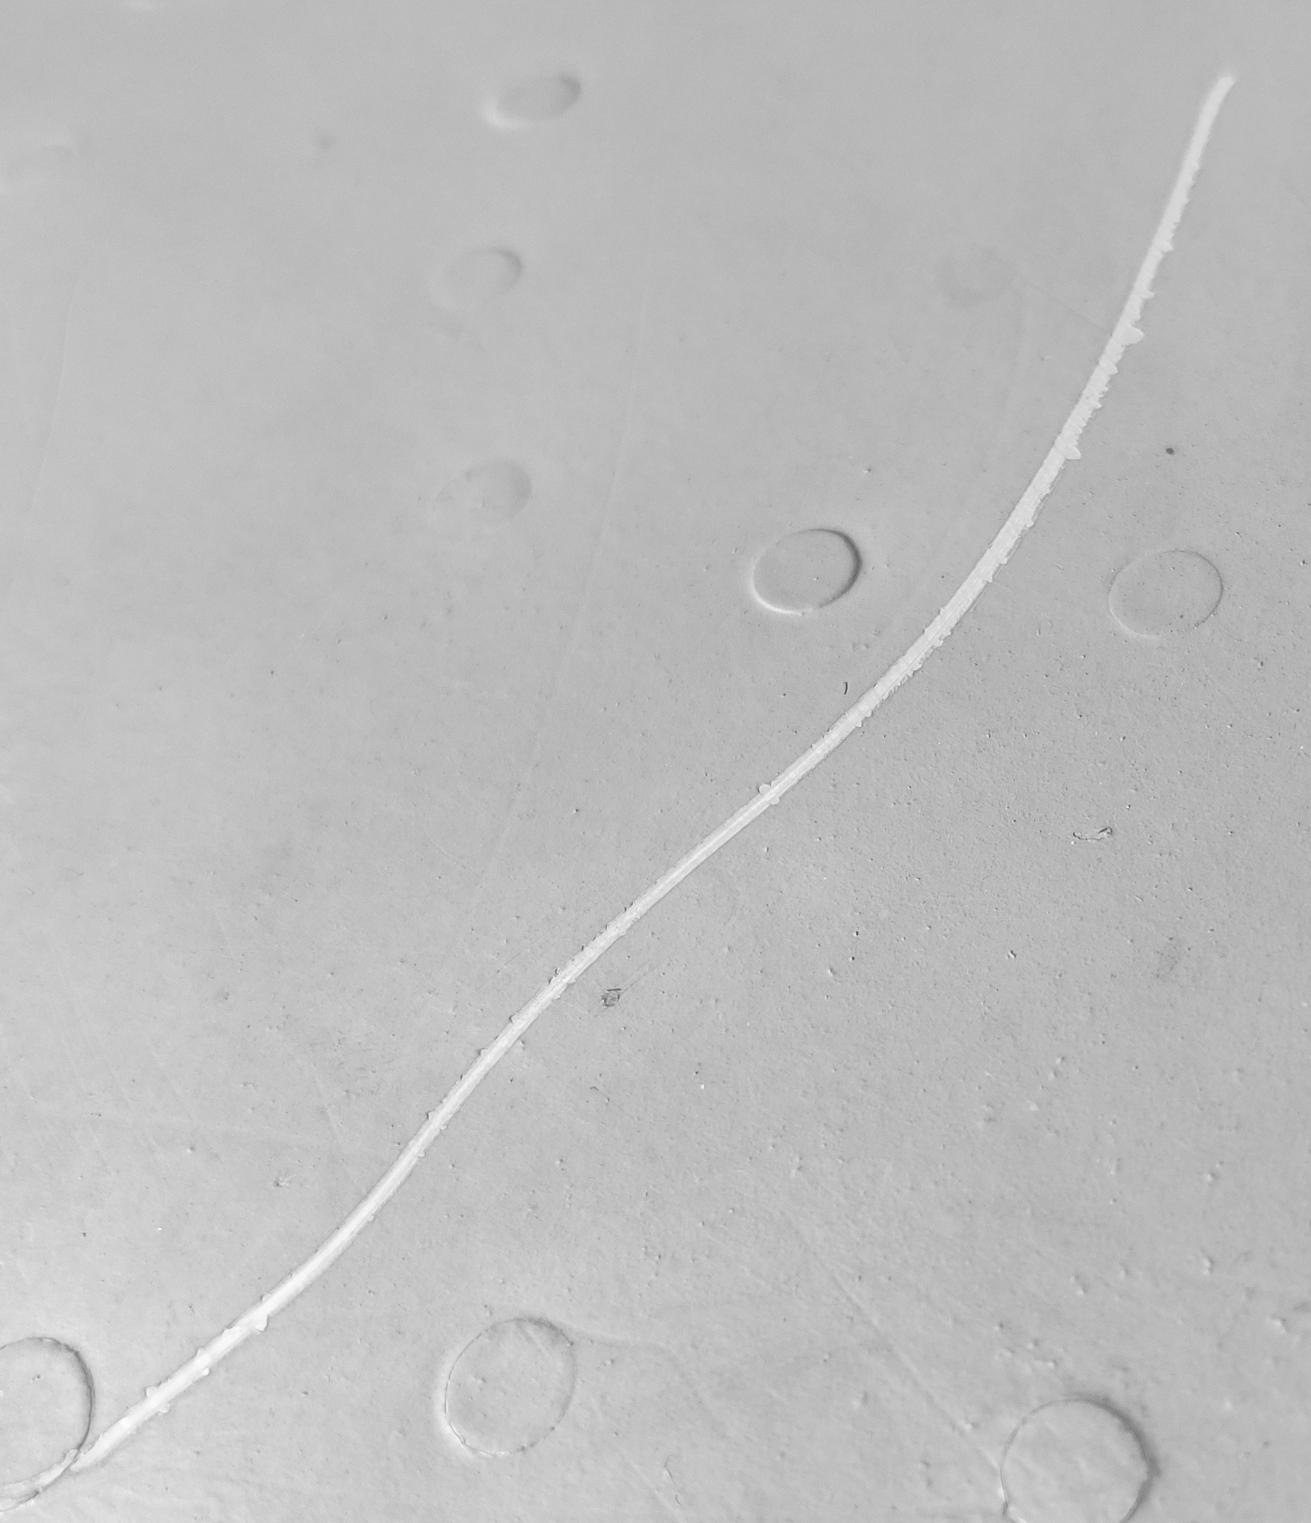scratch: (1, 1, 1311, 1523)
